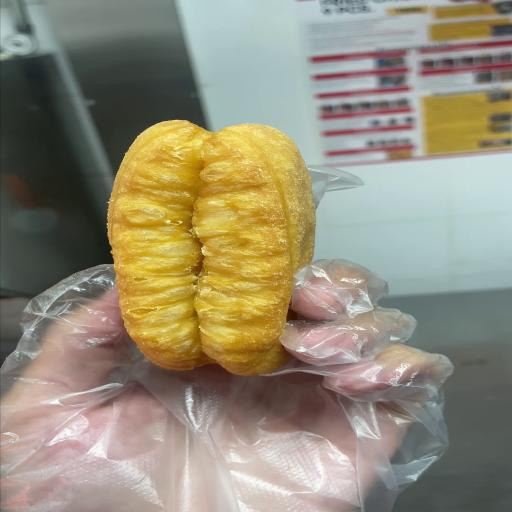brand_golden_good: (108, 121, 315, 375), (108, 121, 314, 374), (0, 220, 254, 271)
